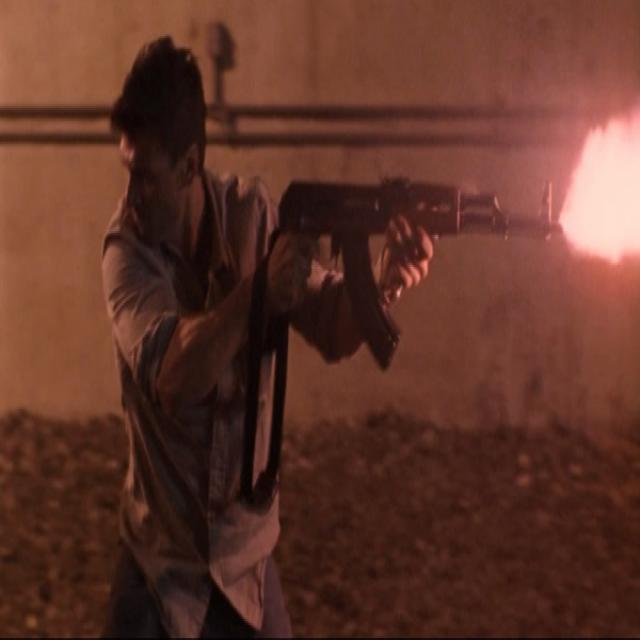rifle: (275, 167, 572, 367)
